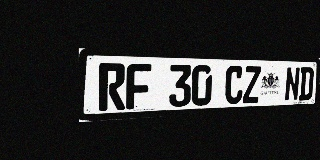0: (191, 65, 212, 106)
3: (169, 64, 192, 107)
C: (224, 66, 244, 104)
D: (299, 67, 314, 101)
F: (126, 64, 151, 110)
N: (284, 67, 300, 101)
R: (99, 63, 126, 111)
Z: (243, 66, 261, 104)
